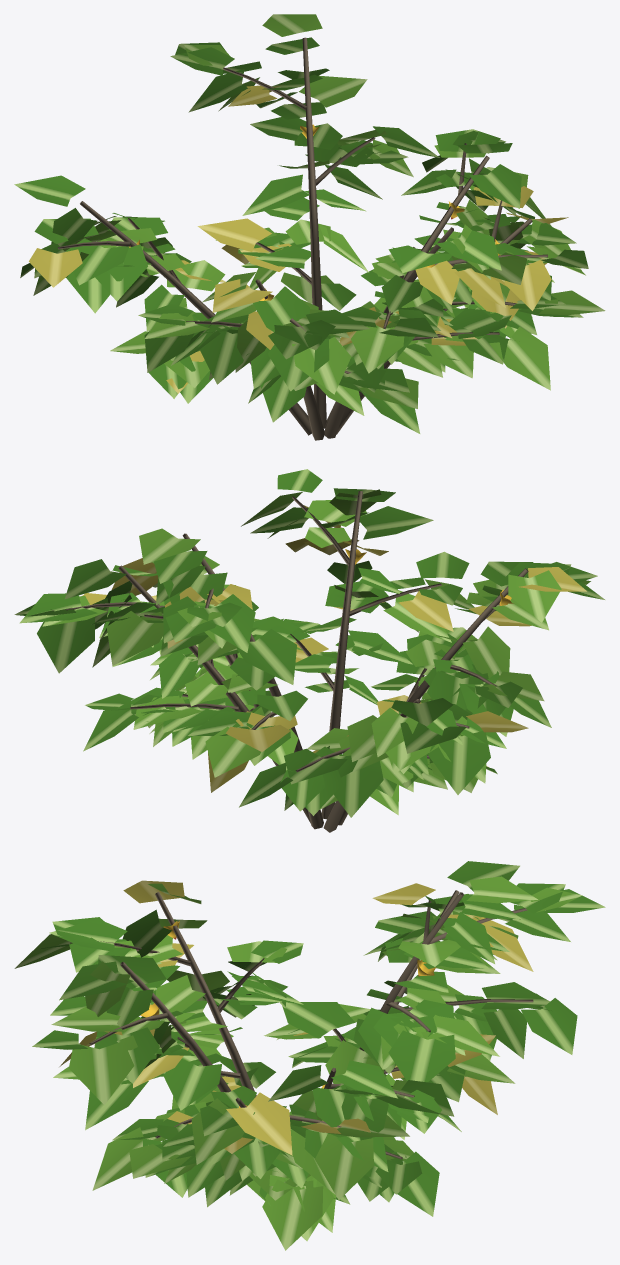
3 renders of one model, top to bottom at view 1: azimuth 30°, elevation 25°; view 2: azimuth 150°, elevation 25°; view 3: azimuth 270°, elevation 25°, orthographic. The views are drawn at different scales.
Parts seen in each view (by area): view 1: foliage; view 2: foliage; view 3: foliage.
Part boxes in pixels (x1=…): foliage: x1=14, y1=14, x2=605, y2=440; foliage: x1=14, y1=469, x2=604, y2=832; foliage: x1=14, y1=861, x2=605, y2=1250.
Bounding box in the file's own units: 2.89 × 1.87 × 2.85.
1 material, 1 textured.
